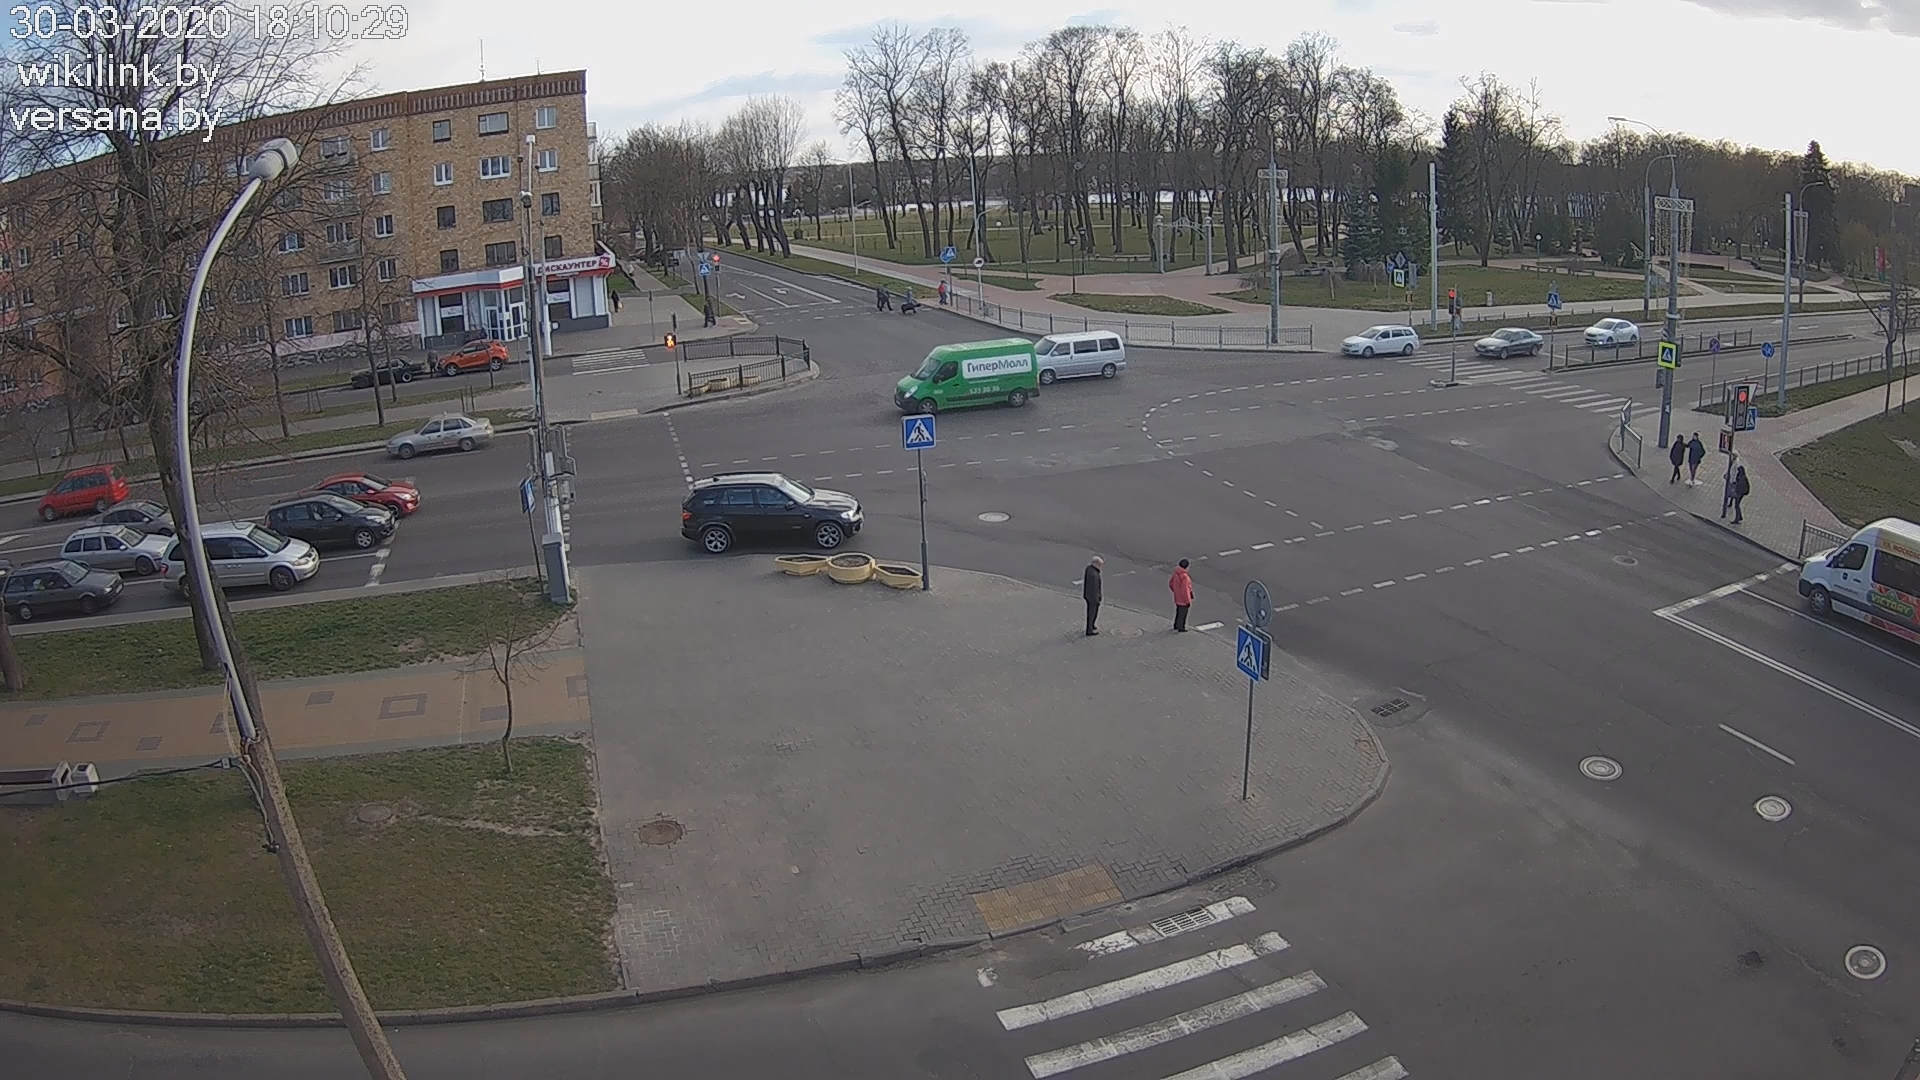car: (680, 469, 865, 553), (160, 520, 319, 601), (894, 338, 1040, 415), (264, 491, 396, 550), (3, 559, 123, 622), (61, 524, 175, 576), (299, 471, 419, 518), (37, 464, 131, 522), (1033, 330, 1125, 385), (386, 413, 493, 459), (84, 498, 175, 537), (436, 339, 509, 377), (1341, 324, 1420, 357), (351, 355, 426, 388), (1473, 327, 1544, 359), (1582, 318, 1640, 347)
